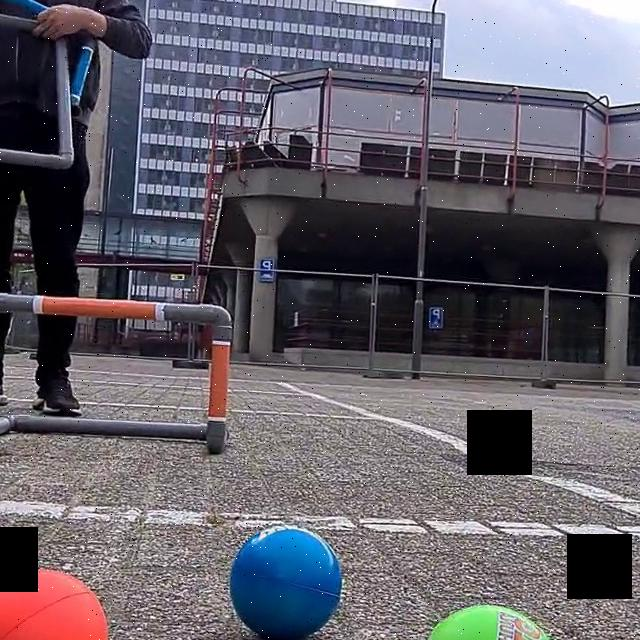ball: (230, 524, 346, 640), (0, 568, 111, 640)
